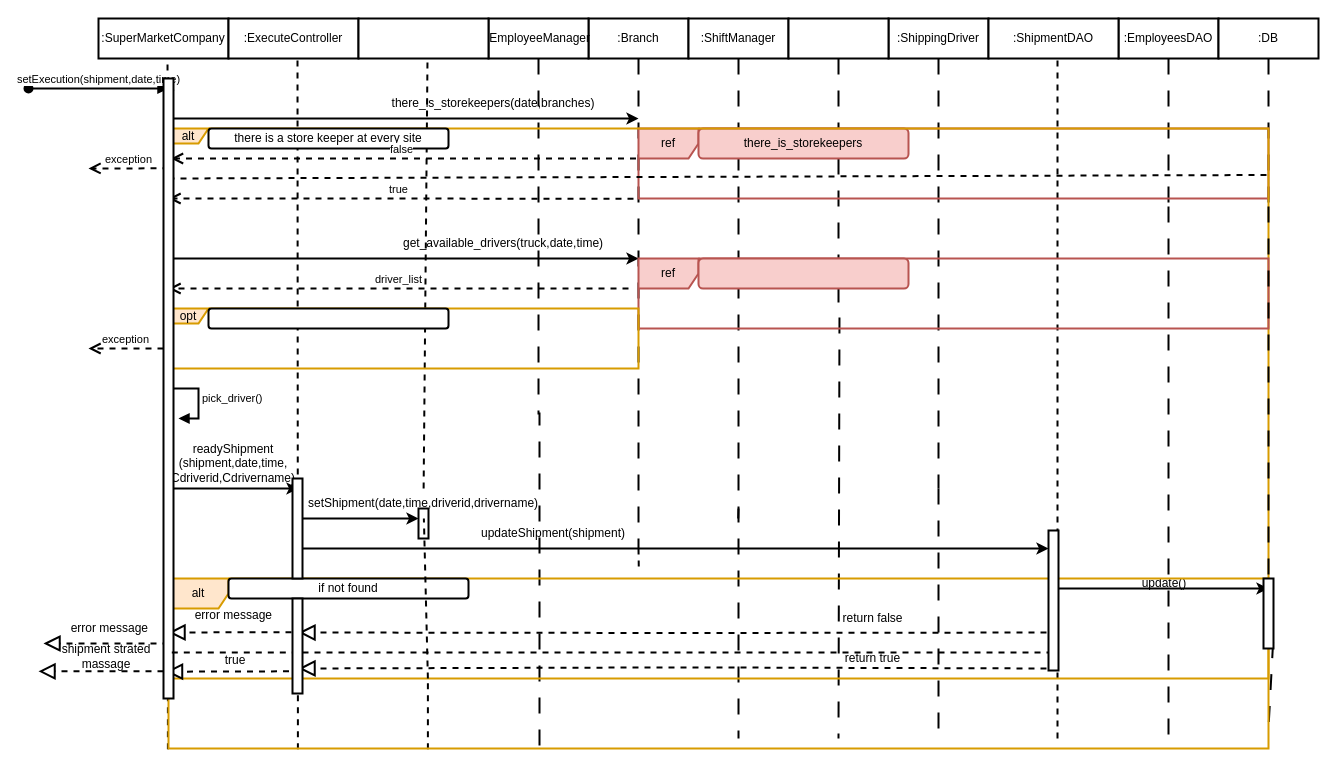
The diagram is 1337 pixels wide and 768 high, and some of its shapes have lost their labels. The shapes that lost their labels are listed below. From the top down, each one's centre as x and y in pixels, then its label:
At [423,38]: ":Shipment".
At [838,38]: ":Truck".
At [803,273]: "get_available_drivers".
At [328,318]: "if driver_list is empty".
